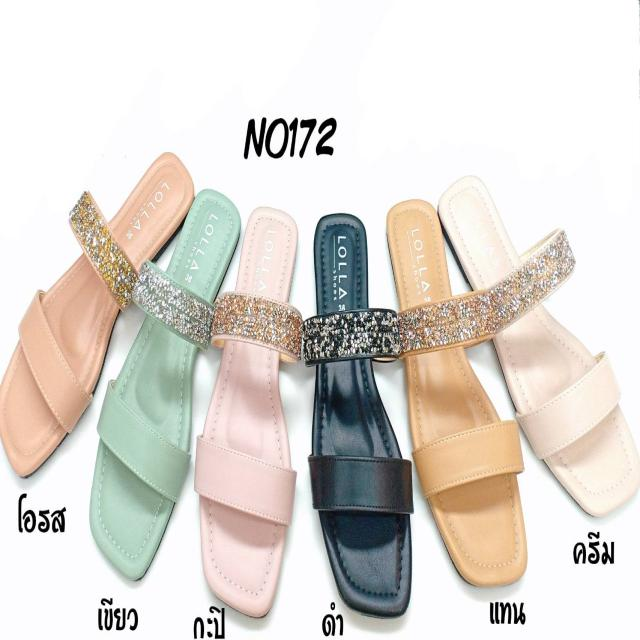black: (306, 212, 412, 610)
cream: (435, 178, 639, 518)
green: (94, 187, 240, 580)
kapi: (204, 205, 295, 620)
orot: (0, 154, 194, 488)
tan: (382, 205, 531, 592)
